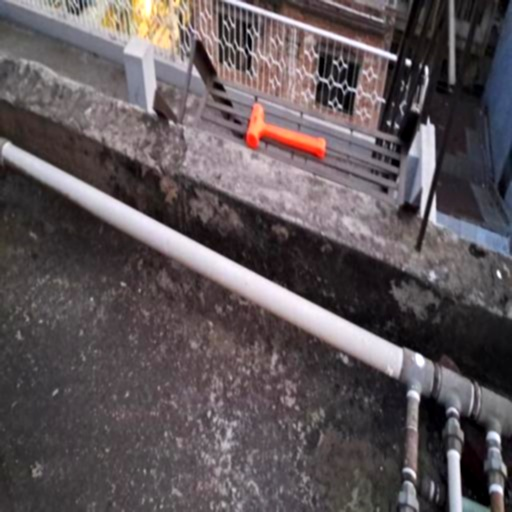mallet: (246, 104, 326, 158)
